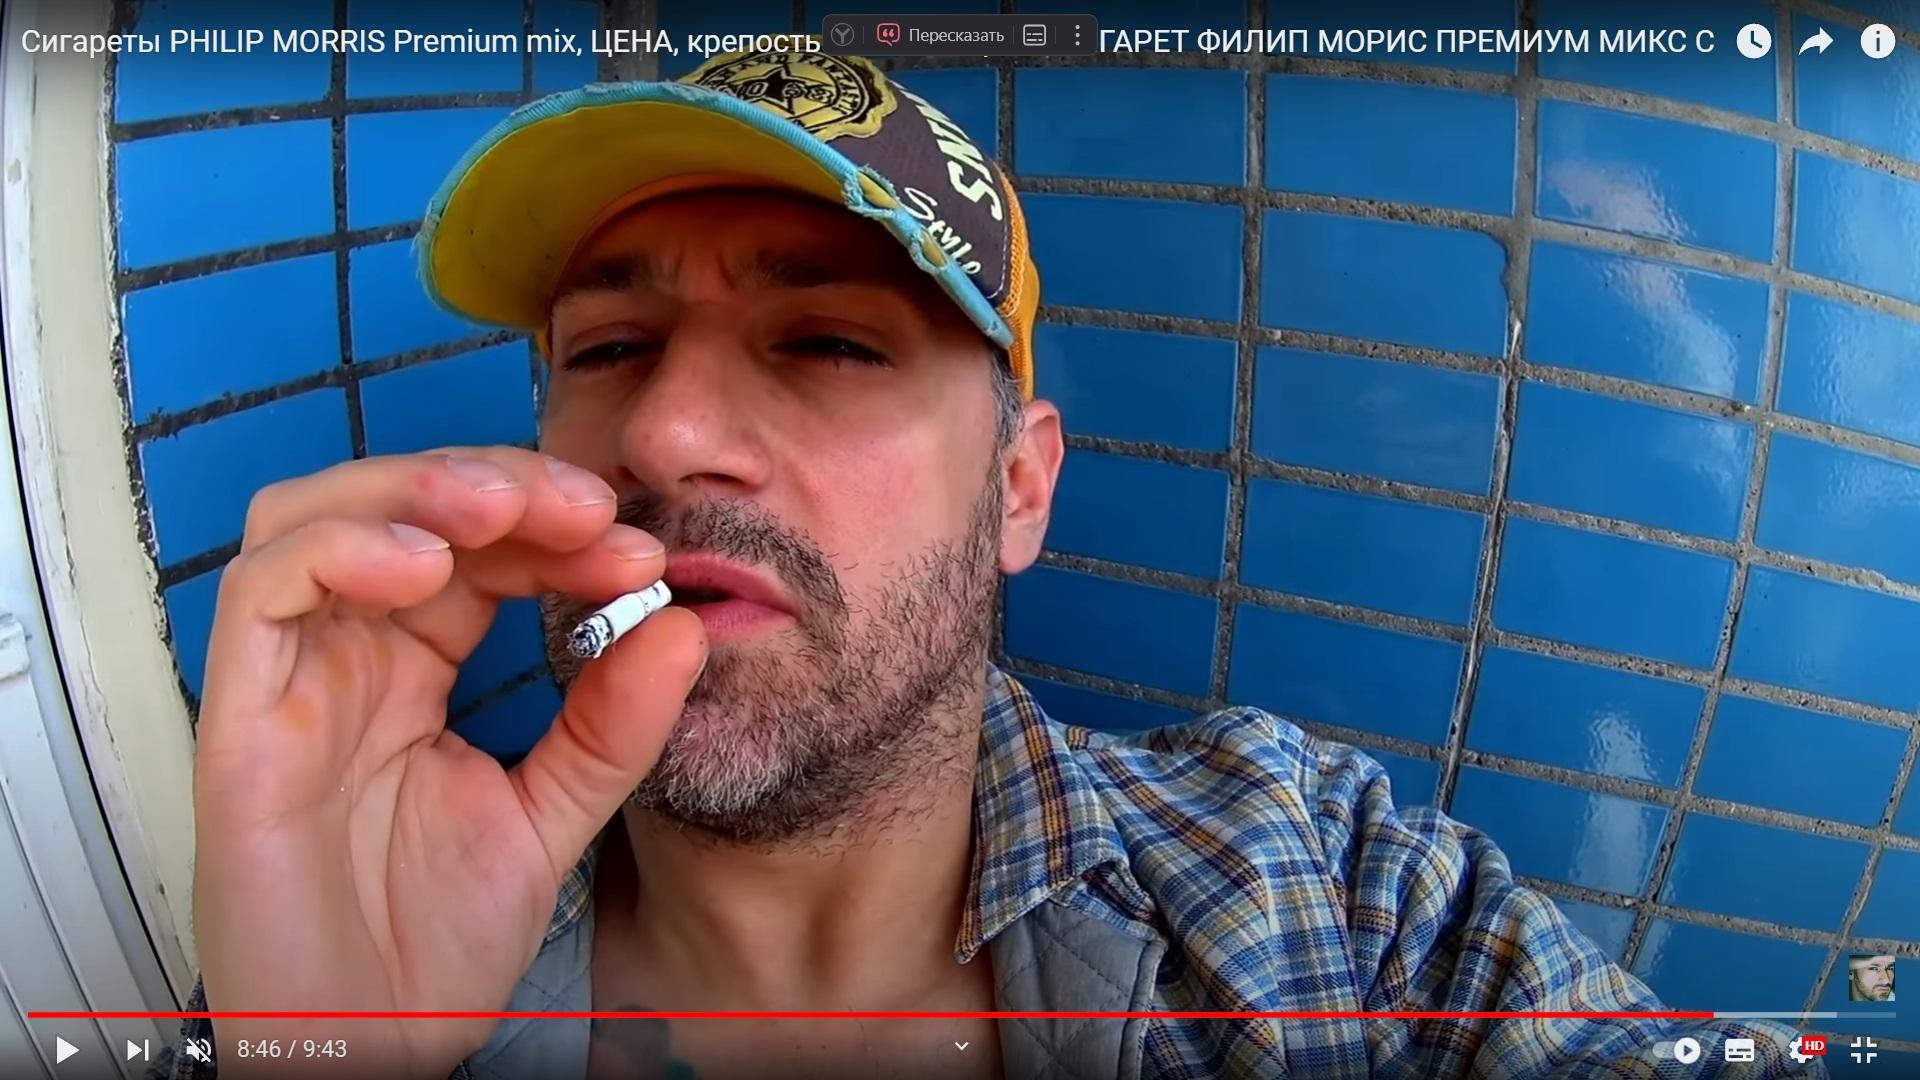cigarette: (566, 582, 671, 661)
